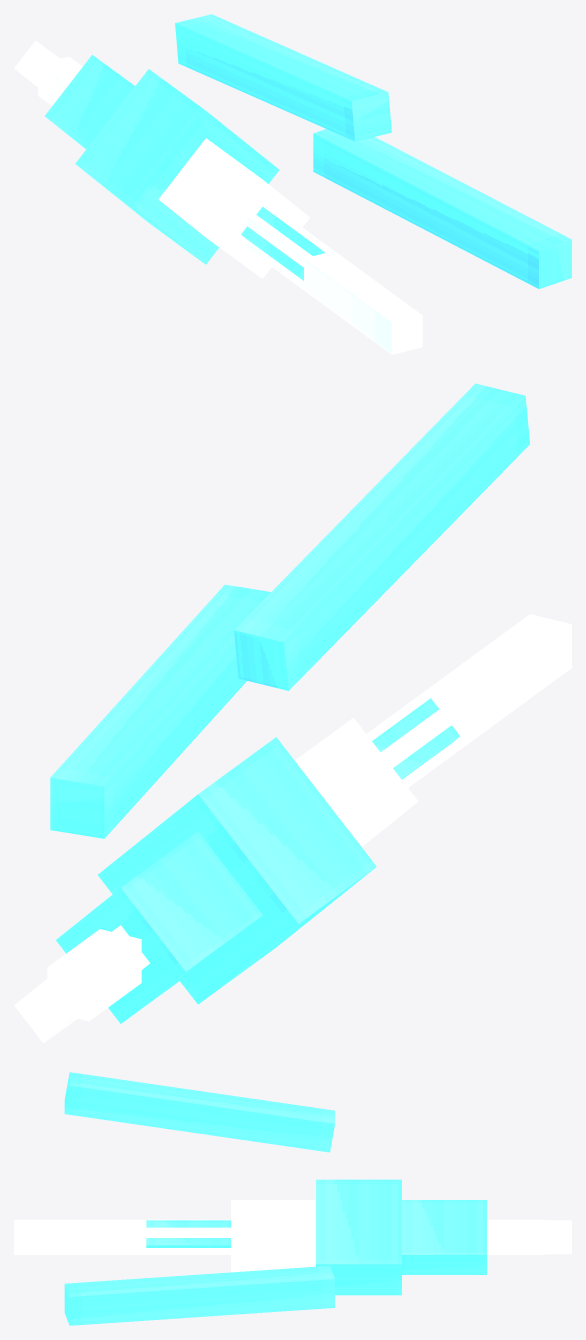
File: projectile_ice_blue.gltf
The picture shows the model from 3 angles, top to bottom: view 1: azimuth 30°, elevation 25°; view 2: azimuth 150°, elevation 25°; view 3: azimuth 270°, elevation 25°; orthographic projection. The views are drawn at different scales.
Parts seen in each view (by area): view 1: core_mesh; view 2: core_mesh; view 3: core_mesh.
Part boxes in pixels (x1=…): core_mesh: x1=14, y1=14, x2=571, y2=354; core_mesh: x1=14, y1=383, x2=571, y2=1043; core_mesh: x1=14, y1=1072, x2=571, y2=1325.
Size of the model in its own units: 0.2811 by 0.2811 by 0.6569.
Materials: 1 (1 with a texture image).
